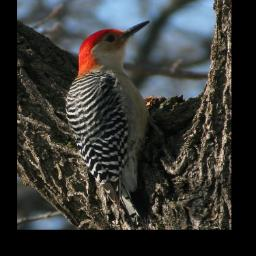Woodpecker: (62, 19, 167, 226)
